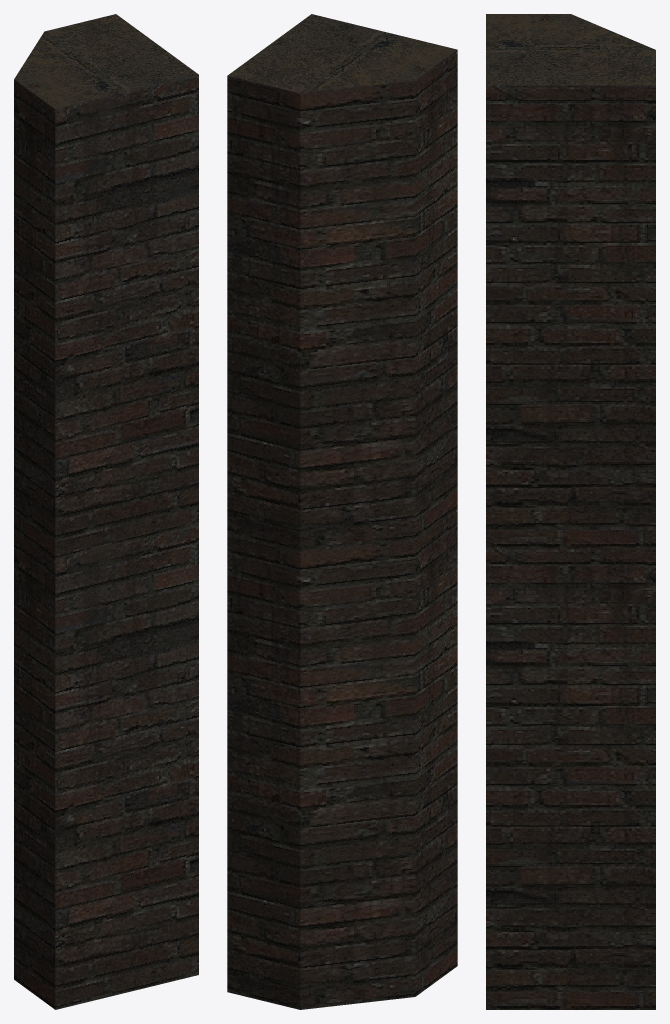
File: pillar_hs_6.glb
3 views of the same model, side by side, from view 1: azimuth 30°, elevation 25°; view 2: azimuth 150°, elevation 25°; view 3: azimuth 270°, elevation 25° (orthographic). The views are drawn at different scales.
Parts seen in each view (by area): view 1: pillar_hs_6; view 2: pillar_hs_6; view 3: pillar_hs_6.
Part boxes in pixels (x1,y1,x2,y2): pillar_hs_6: (14,14,198,1009); pillar_hs_6: (227,14,457,1009); pillar_hs_6: (486,14,655,1009).
Size of the model in its own units: 1 by 6 by 1.
2 materials, 2 textured.
